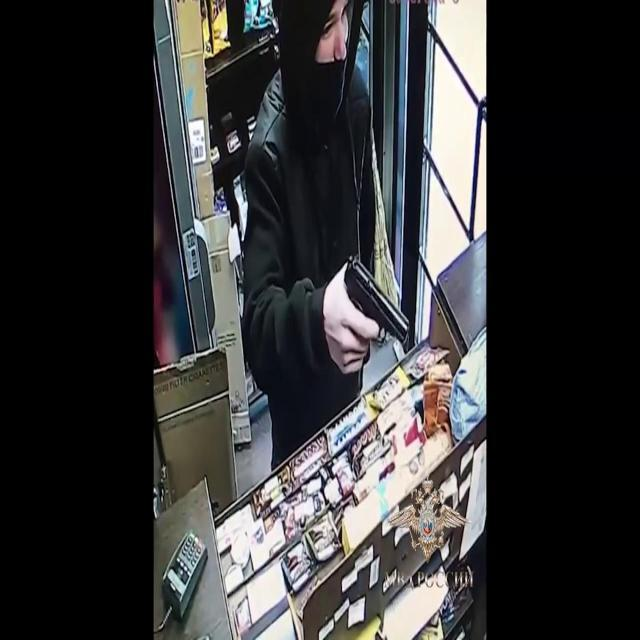pistol: (345, 242, 418, 381)
